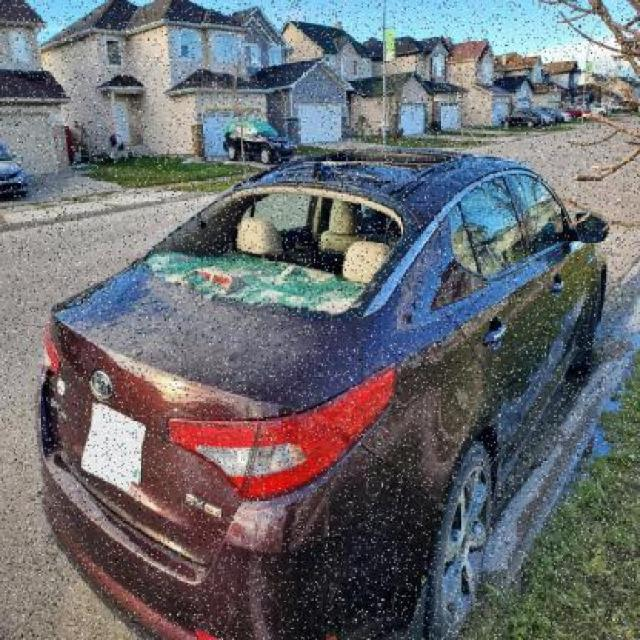Rear-windscreen-Damage: (145, 174, 429, 310)
